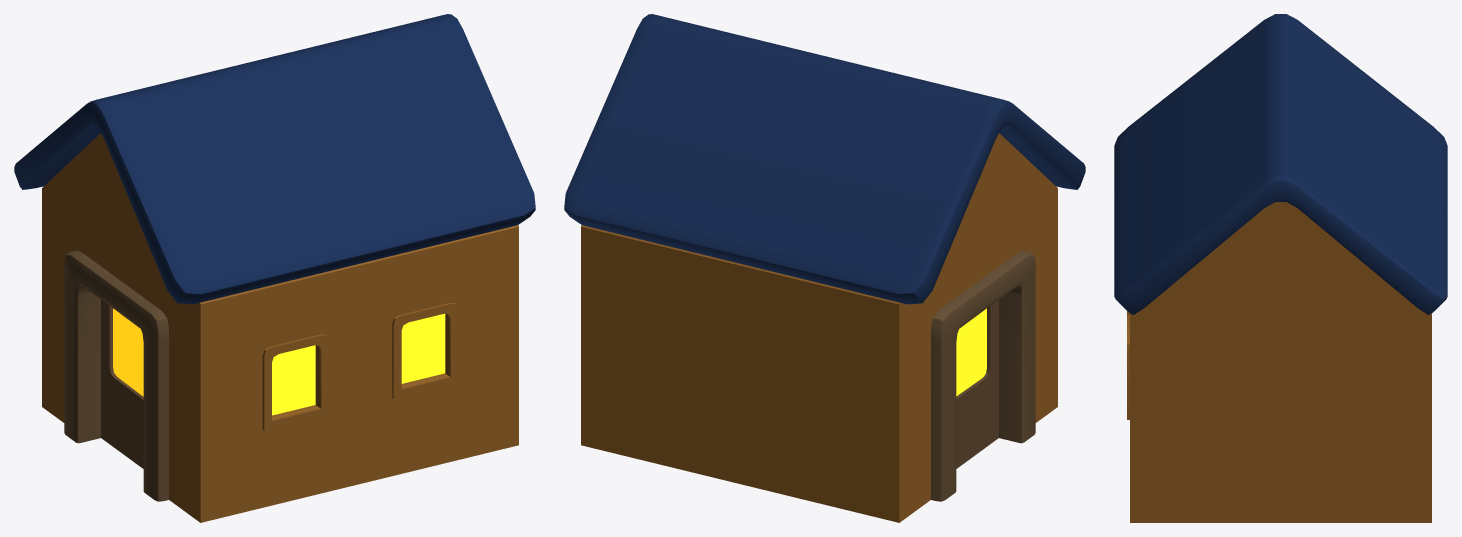
Rendered from SmallHouse.FBX.
The picture shows the model from 3 angles, left to right: view 1: azimuth 30°, elevation 25°; view 2: azimuth 150°, elevation 25°; view 3: azimuth 270°, elevation 25°; orthographic projection. The views are drawn at different scales.
Visible parts, largest first — view 1: SmallHouse; view 2: SmallHouse; view 3: SmallHouse.
Boxes of the visible parts, x1,y1,x2,y2 form: SmallHouse: (14, 14, 535, 522); SmallHouse: (564, 14, 1085, 522); SmallHouse: (1114, 14, 1447, 522).
Bounding box in the file's own units: 140 × 136 × 117.
